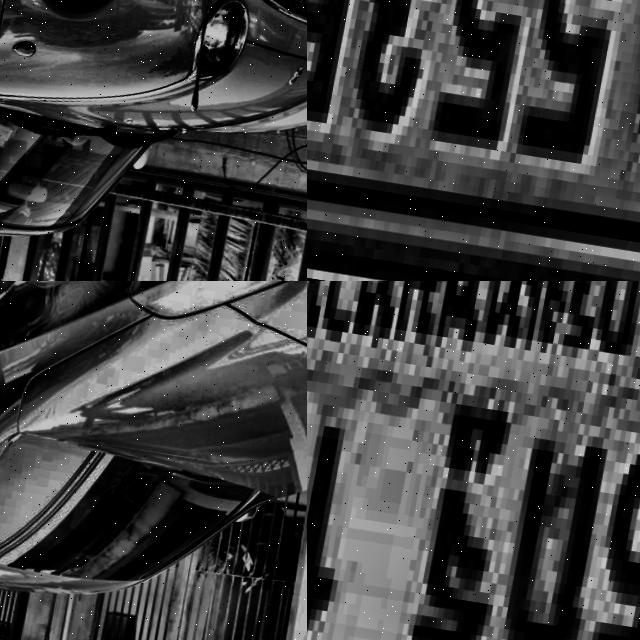license-plate: (307, 281, 640, 640), (307, 0, 640, 281)
